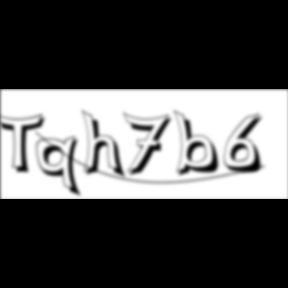6: (224, 112, 270, 176)
7: (123, 111, 178, 179)
T: (0, 112, 50, 176)
b: (174, 109, 226, 179)
h: (82, 108, 128, 182)
q: (36, 135, 86, 200)
